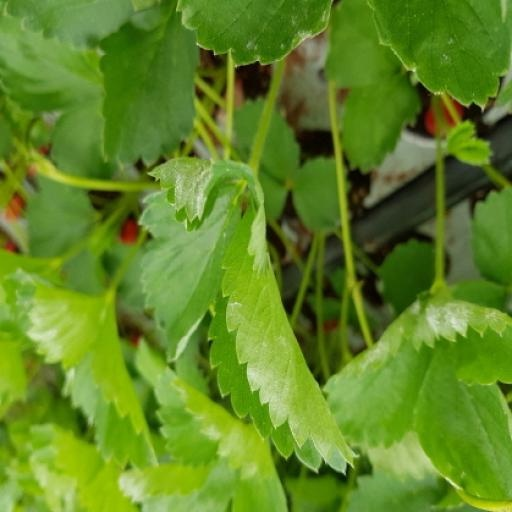Powdery Mildew Leaf: (151, 34, 305, 324), (241, 237, 368, 356), (0, 124, 141, 221), (79, 59, 190, 174), (402, 139, 511, 245), (177, 445, 336, 511)
